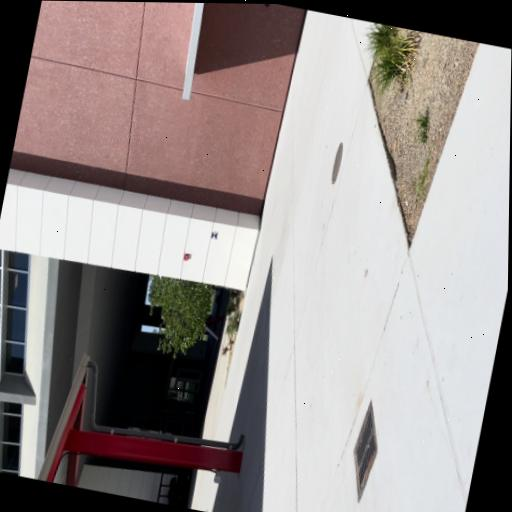target9: (209, 230, 218, 240)
